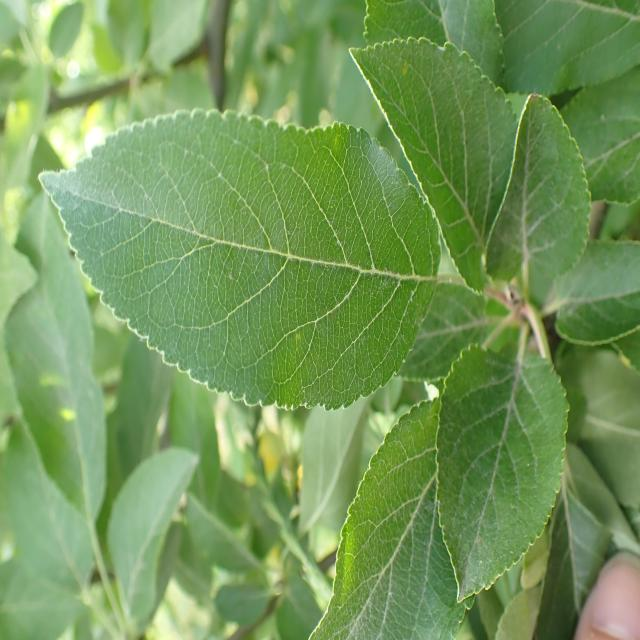healthy: (38, 108, 441, 413), (348, 36, 518, 297), (306, 396, 469, 640), (434, 341, 569, 601), (486, 93, 591, 289), (492, 0, 640, 97), (556, 65, 640, 206), (551, 239, 640, 370), (439, 0, 505, 90), (363, 0, 448, 49)
